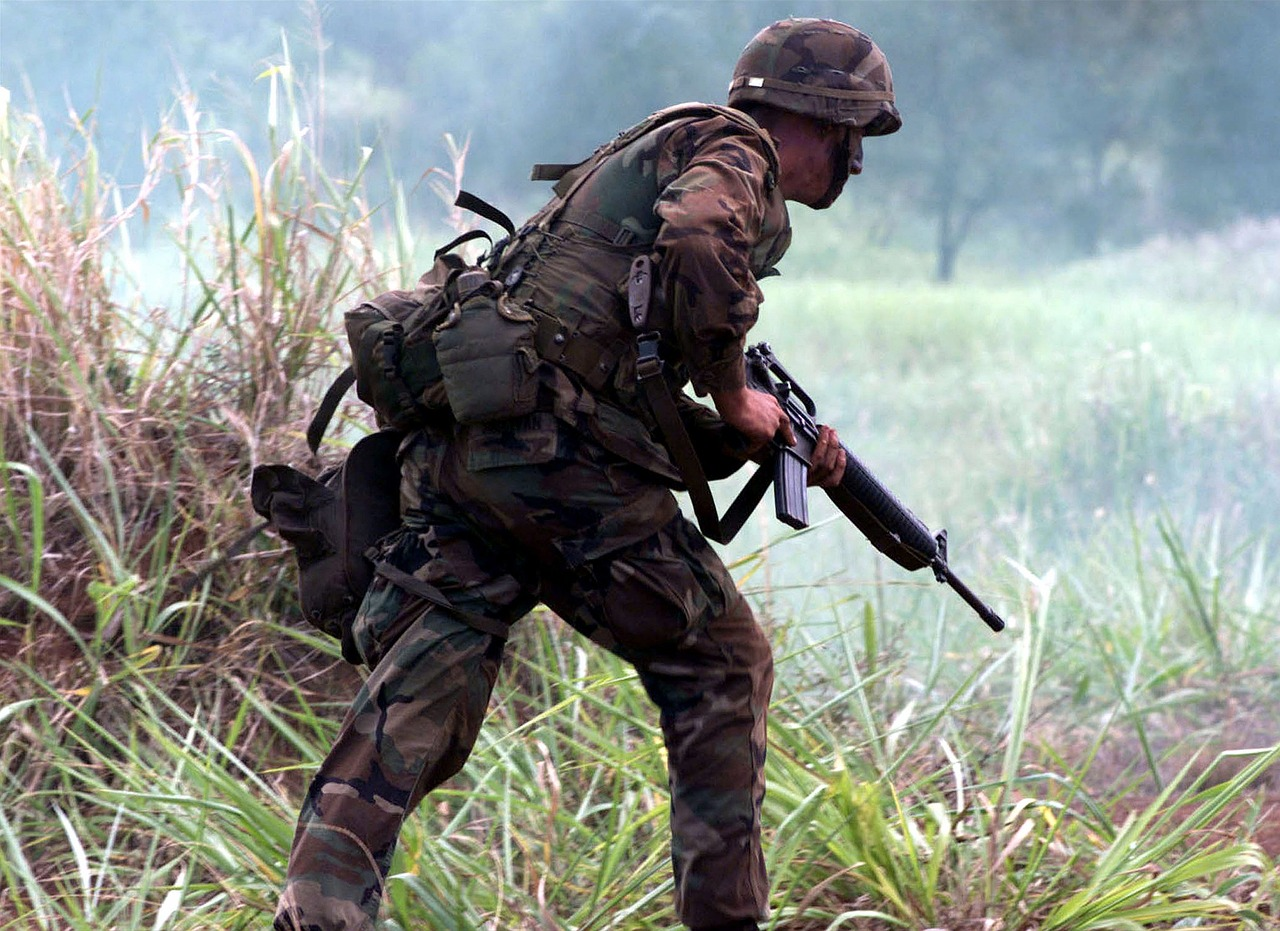gun: (622, 251, 1010, 637)
